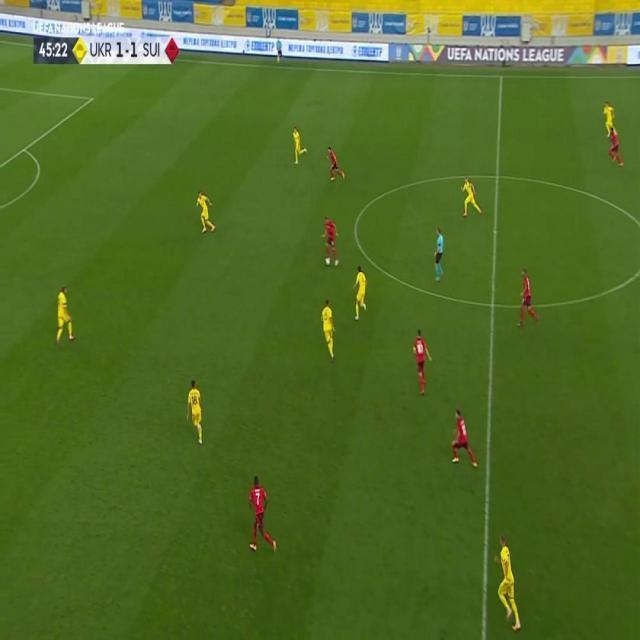ball: (323, 257, 331, 264)
player: (492, 533, 523, 632), (245, 475, 277, 557), (448, 408, 478, 470), (601, 101, 625, 168), (410, 328, 433, 396), (515, 269, 540, 328), (54, 285, 76, 346), (185, 378, 204, 447), (319, 298, 336, 360), (195, 189, 217, 234), (350, 265, 368, 320), (460, 175, 483, 218), (321, 215, 340, 267), (326, 145, 345, 183), (292, 124, 308, 165)
referee: (432, 226, 445, 281), (274, 37, 283, 65)
